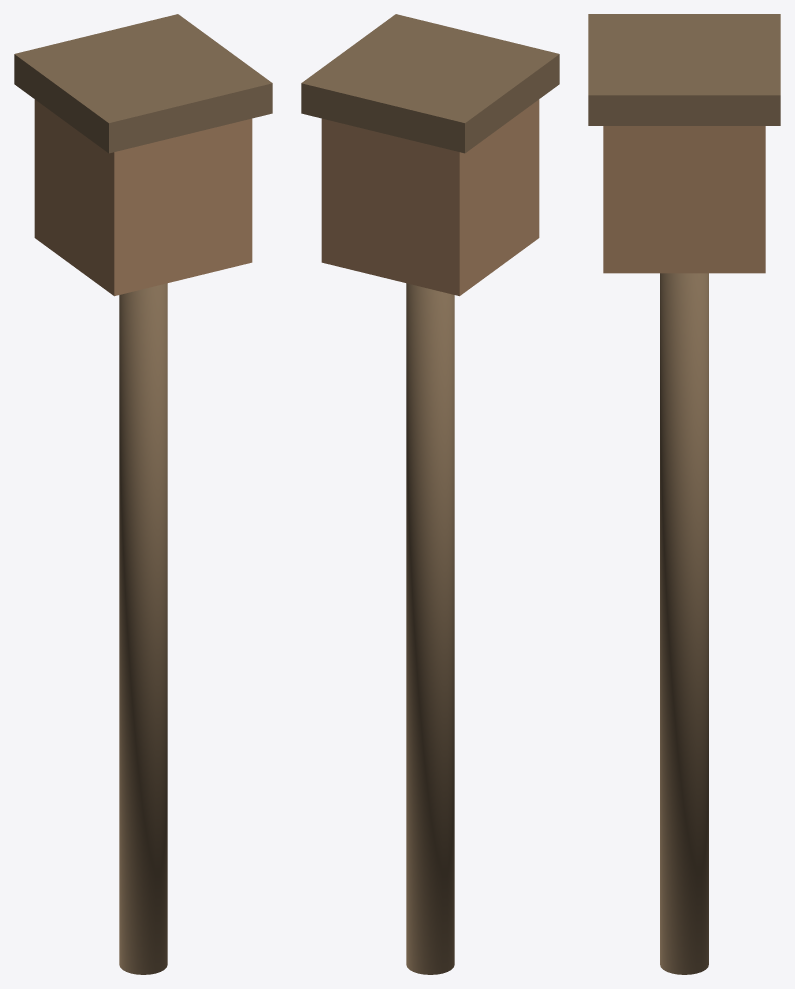
Rendered from light.standing-old.glb.
3 renders of one model, left to right at view 1: azimuth 30°, elevation 25°; view 2: azimuth 150°, elevation 25°; view 3: azimuth 270°, elevation 25°, orthographic.
Parts seen in each view (by area): view 1: light pole; view 2: light pole; view 3: light pole.
Boxes of the visible parts, left/top/right/bottom form: light pole: left=14, top=14, right=272, bottom=974; light pole: left=301, top=14, right=559, bottom=974; light pole: left=588, top=14, right=780, bottom=974.
Size of the model in its own units: 0.51 by 2.66 by 0.51.
